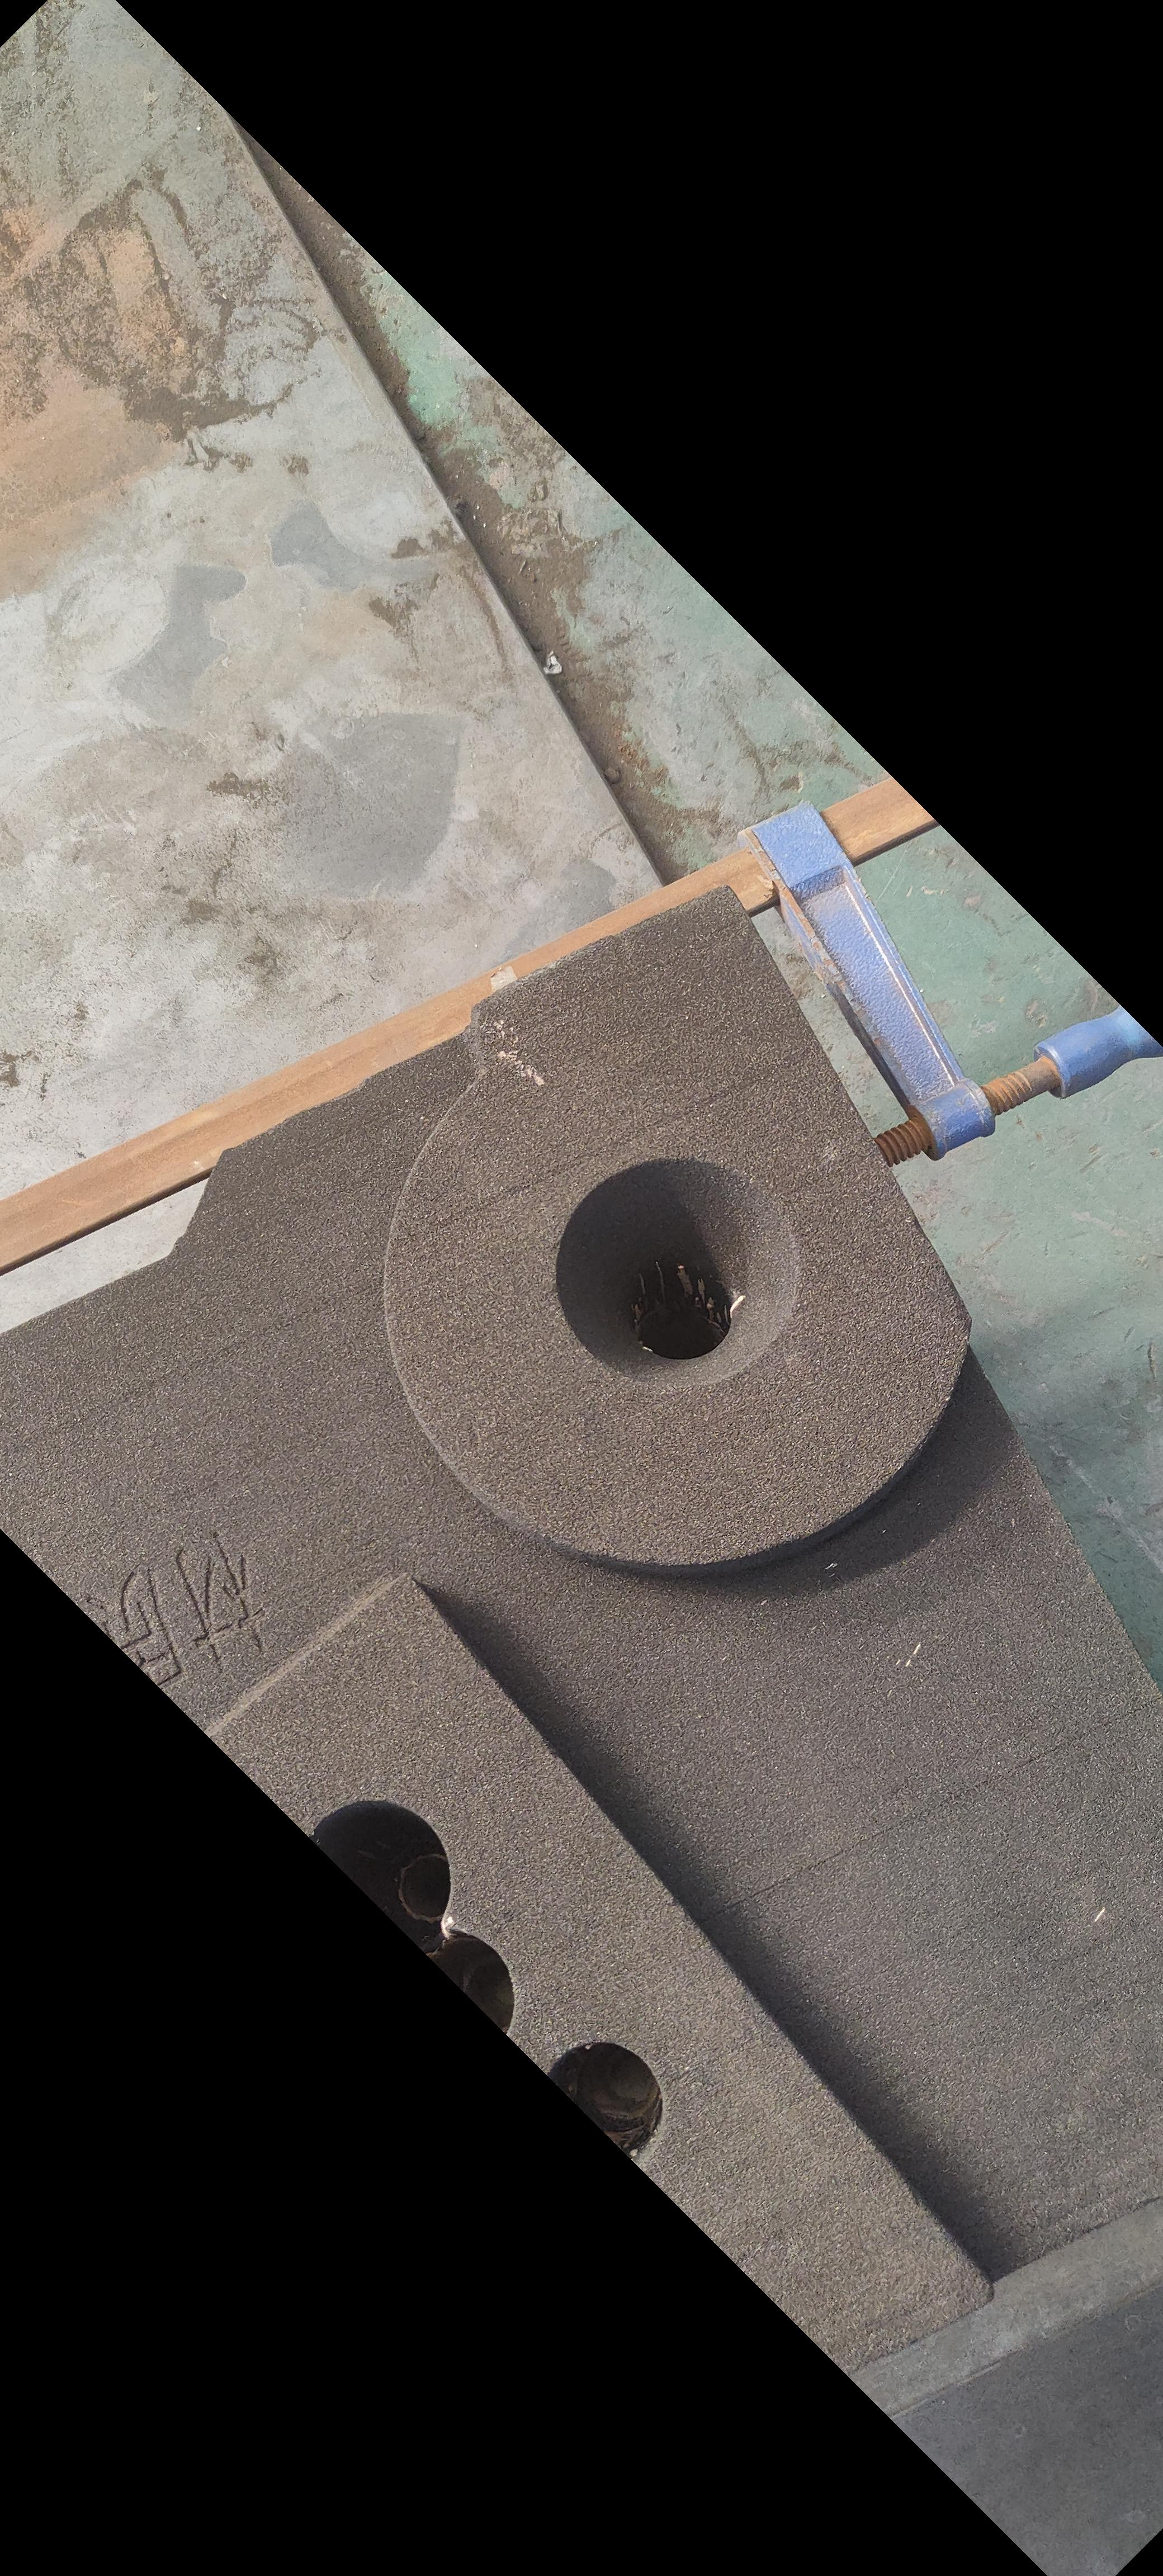pouring hole: (555, 1155, 802, 1392)
